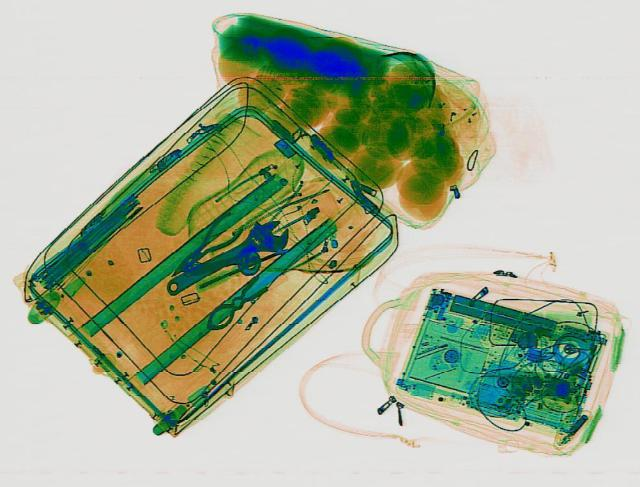Pliers: (156, 208, 254, 283)
Wrench: (147, 216, 299, 301)
